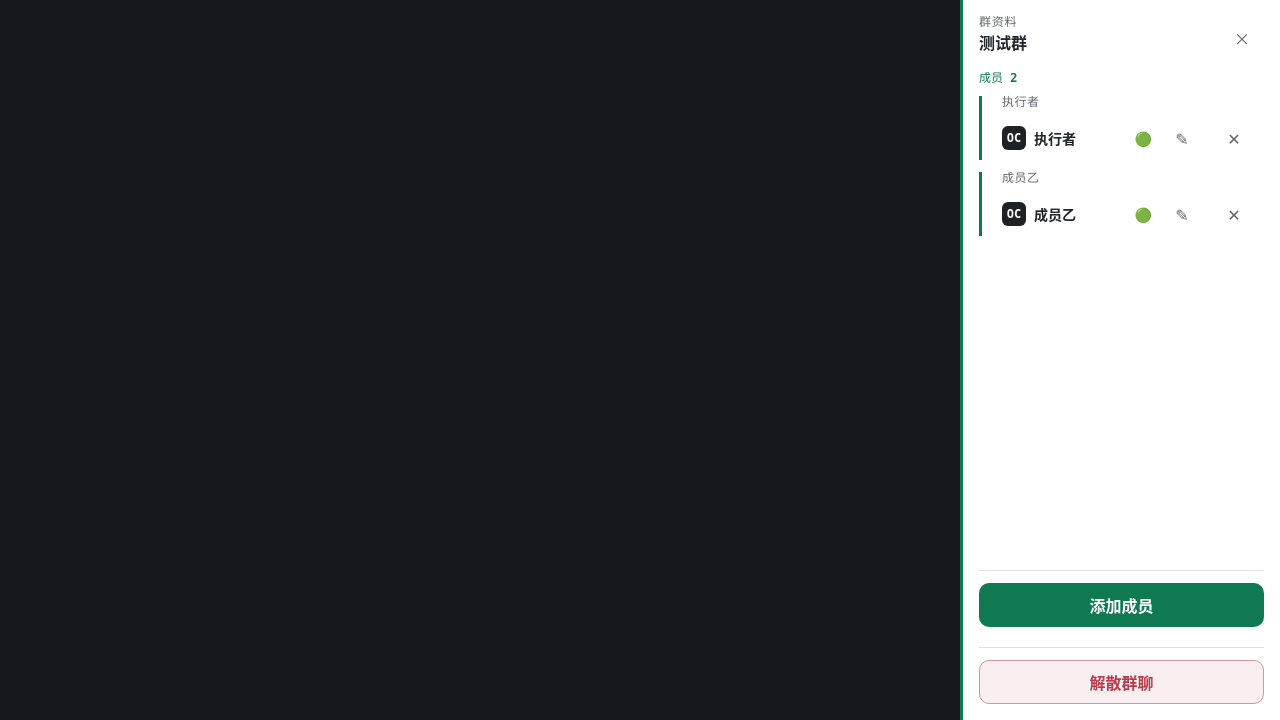
Test: C2 GroupInfo 添加成员弹窗 › 点「添加成员」→ 弹窗出现，MemberPicker 内嵌其中，旧 select 入口移除
The width and height of the screenshot is (1280, 720).
Click the button "添加成员": (1122, 605) [979,583,1264,627]
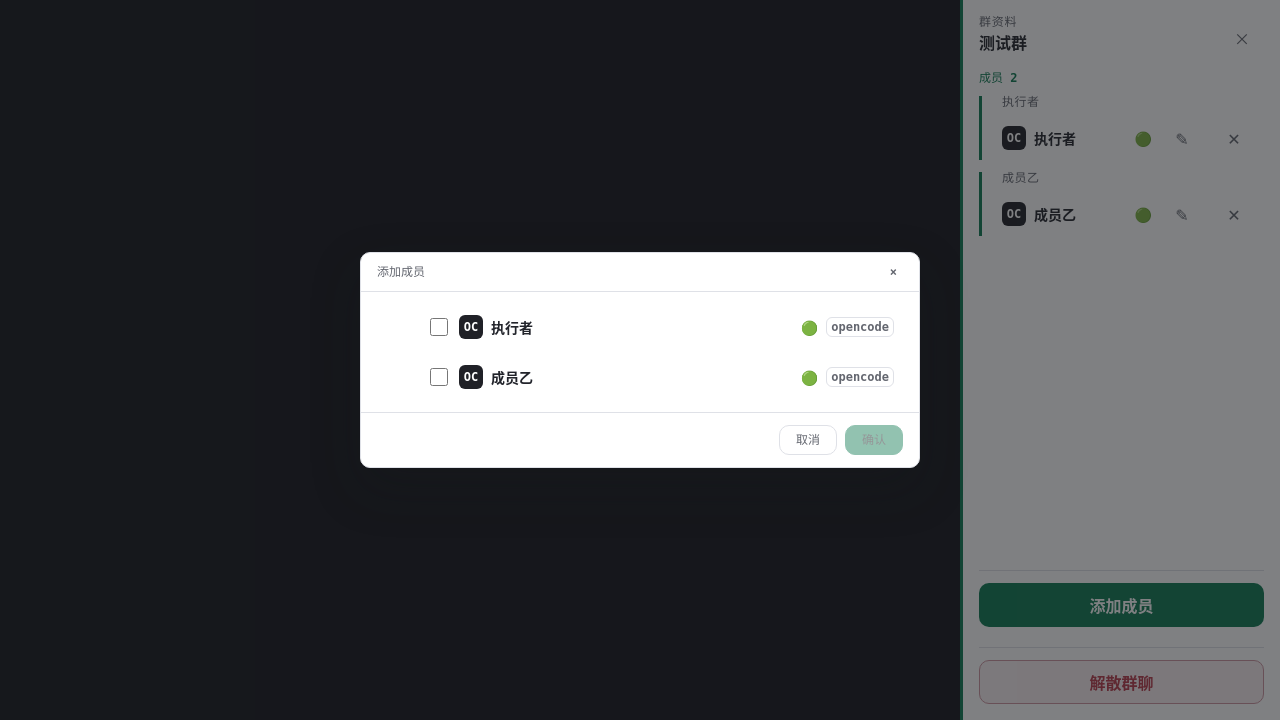
Check: the list with test id "member-picker" is shown, box [377,304,903,400]
